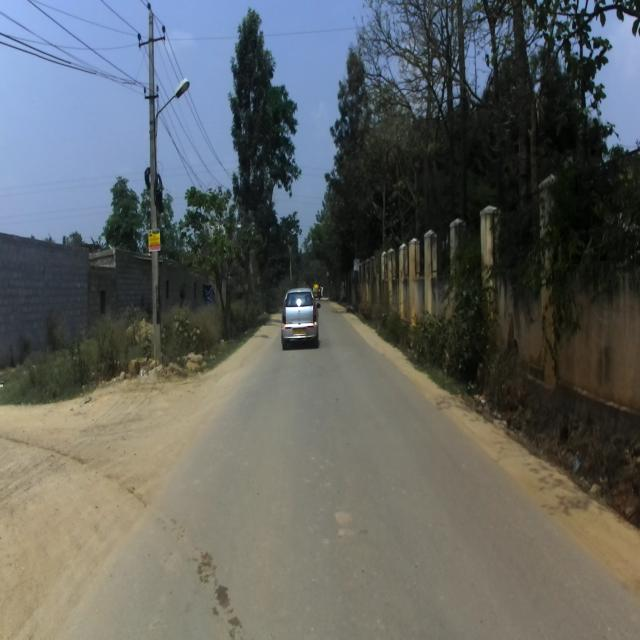car ahead at: (278, 281, 321, 356)
electric pole ahead at: (129, 1, 179, 381)
